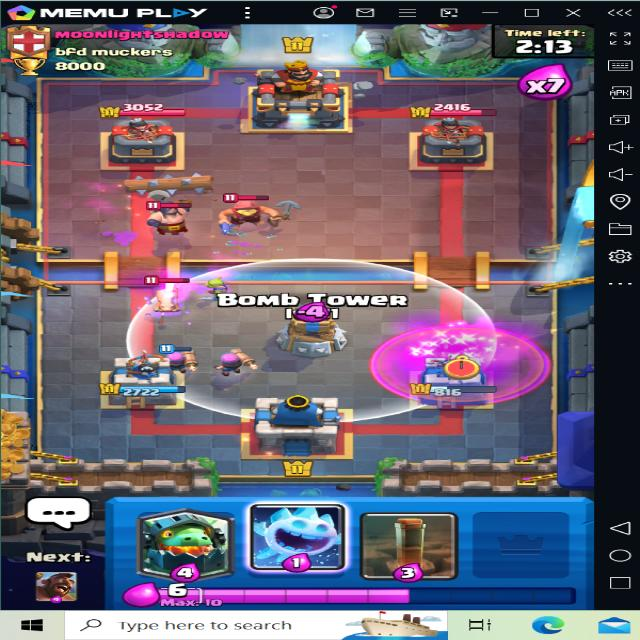executioner: (143, 190, 203, 240)
fisherman: (212, 194, 291, 236)
pig: (147, 276, 186, 316)
rage: (370, 326, 550, 401)
